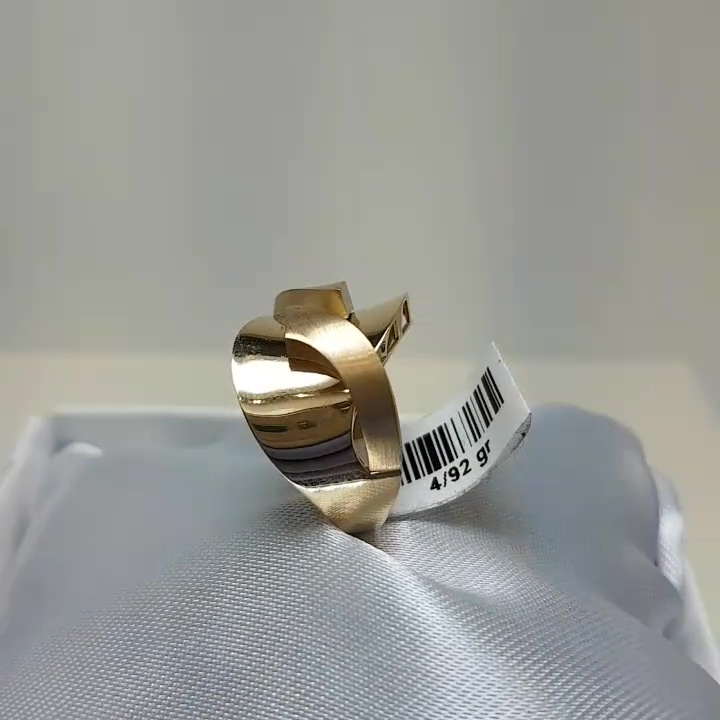Ring 4: (209, 271, 433, 551)
